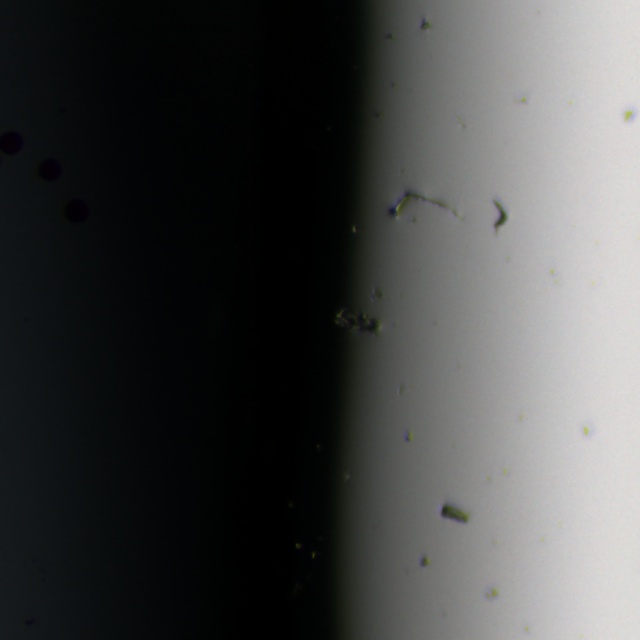viable: (65, 199, 89, 222), (1, 132, 23, 154), (40, 159, 61, 180)
